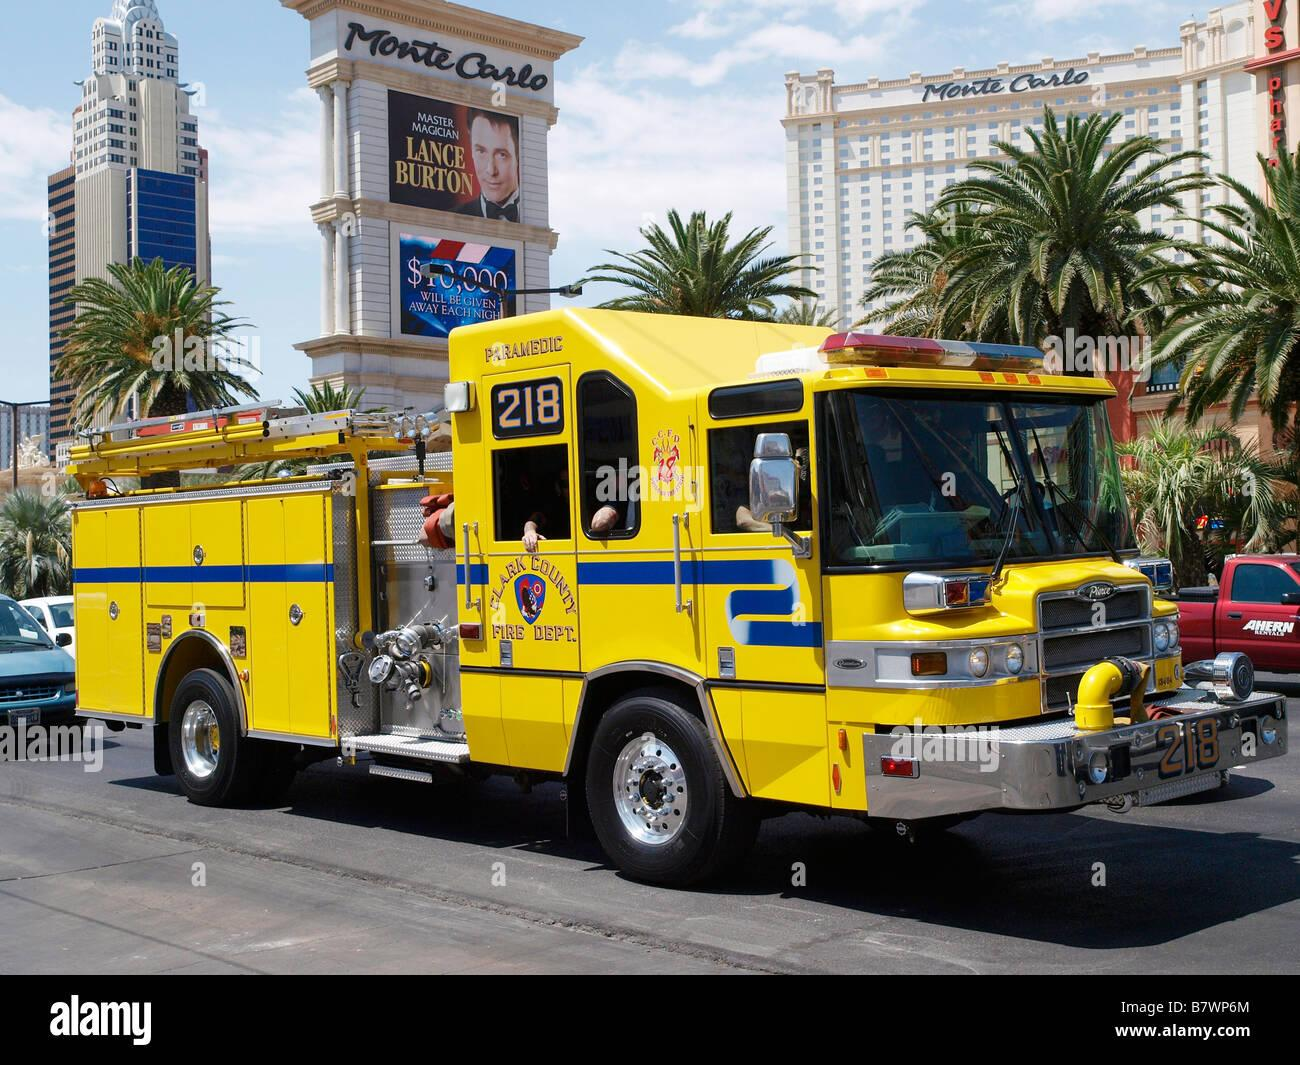firetruck_off: (63, 312, 1288, 889)
